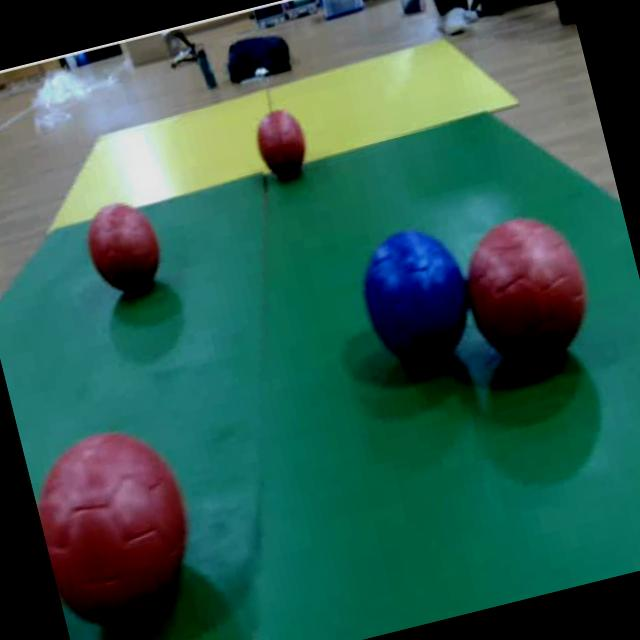blue_ball: (351, 224, 482, 376)
red_ball: (23, 415, 209, 633), (452, 210, 598, 372), (79, 195, 166, 298), (251, 102, 310, 180)
